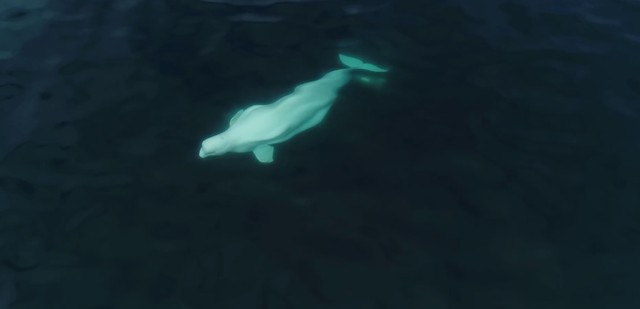whale: (184, 48, 396, 171)
